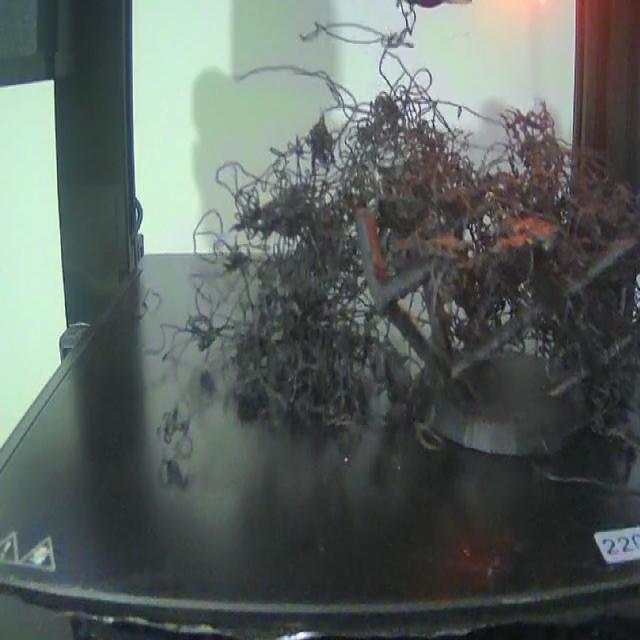spaghetti: (159, 12, 640, 525)
